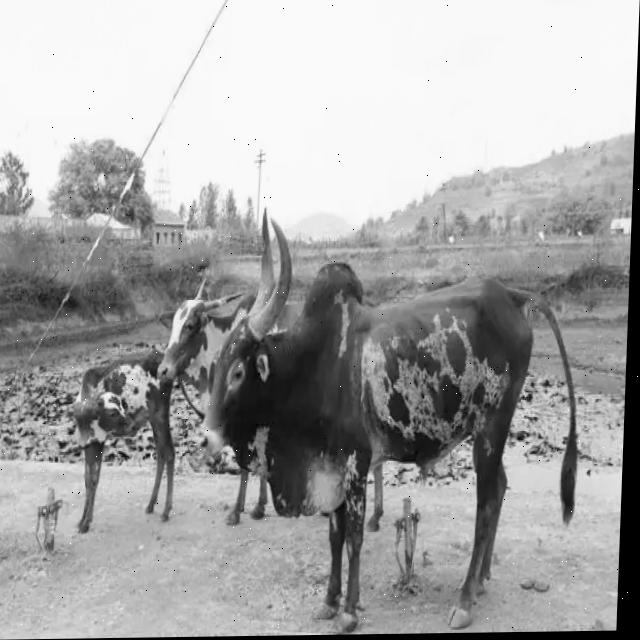Cow: (199, 233, 578, 572)
